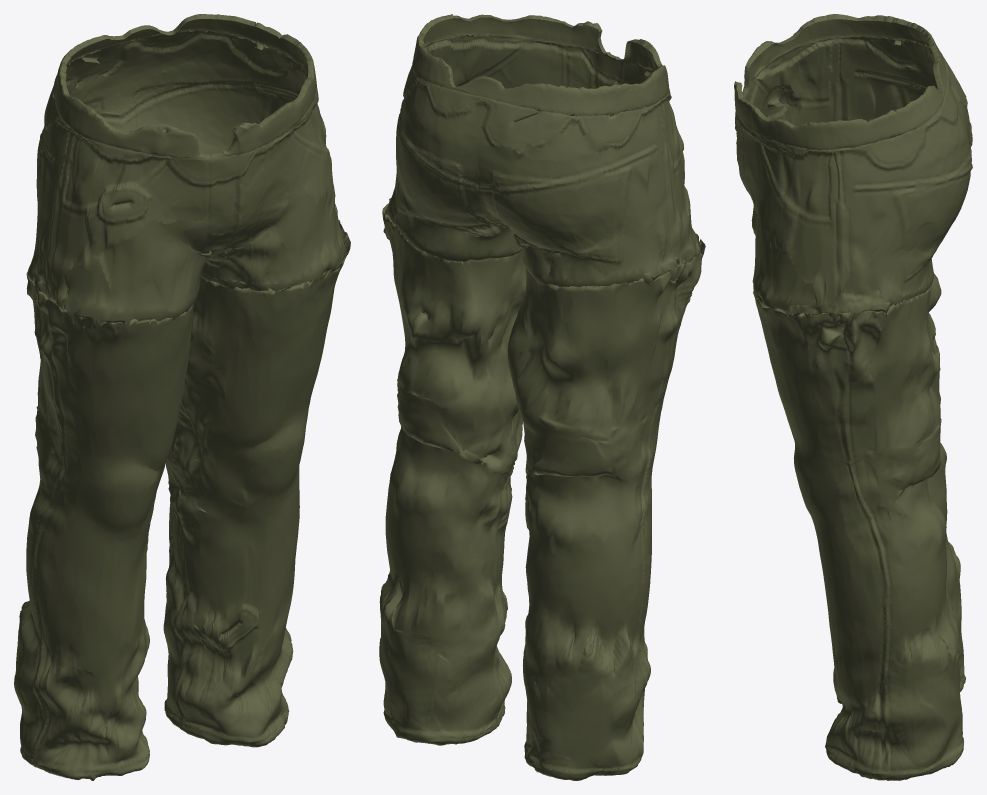
File: bottom_cargo.glb
3 views of the same model, side by side, from view 1: azimuth 30°, elevation 25°; view 2: azimuth 150°, elevation 25°; view 3: azimuth 270°, elevation 25° (orthographic). The views are drawn at different scales.
Visible parts, largest first — view 1: bottom_cargo; view 2: bottom_cargo; view 3: bottom_cargo.
Part boxes in pixels (x1=…): bottom_cargo: x1=14, y1=14, x2=350, y2=780; bottom_cargo: x1=379, y1=14, x2=705, y2=780; bottom_cargo: x1=734, y1=14, x2=972, y2=780.
Size of the model in its own units: 0.3737 by 0.8362 by 0.2701.
1 material, 1 textured.
